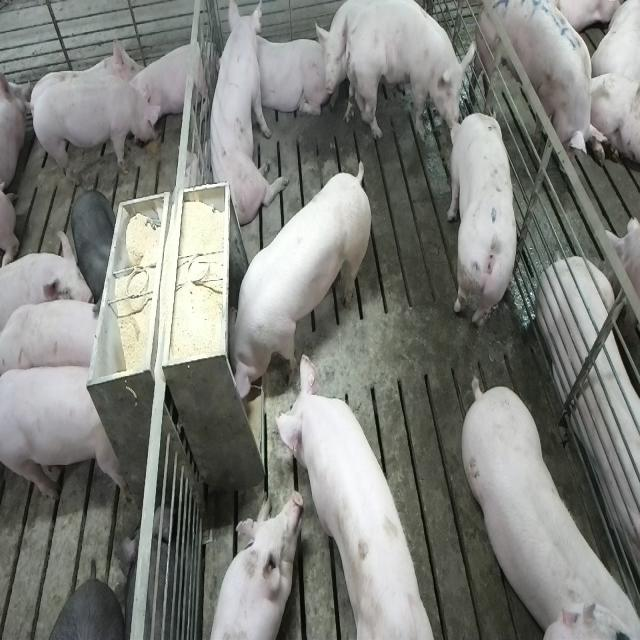Feeding: (273, 382, 443, 640), (218, 160, 368, 407)
Sitting: (202, 4, 284, 228)
Standing: (456, 373, 634, 635), (479, 0, 610, 191), (2, 366, 130, 506), (445, 107, 519, 336), (28, 78, 159, 185), (4, 232, 96, 350), (0, 299, 105, 372)
Sternal_lying: (539, 224, 640, 590), (203, 491, 300, 640), (132, 36, 210, 132), (252, 30, 328, 122)
